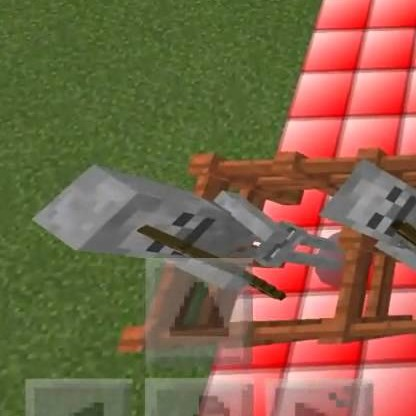skeleton: (32, 155, 245, 305)
